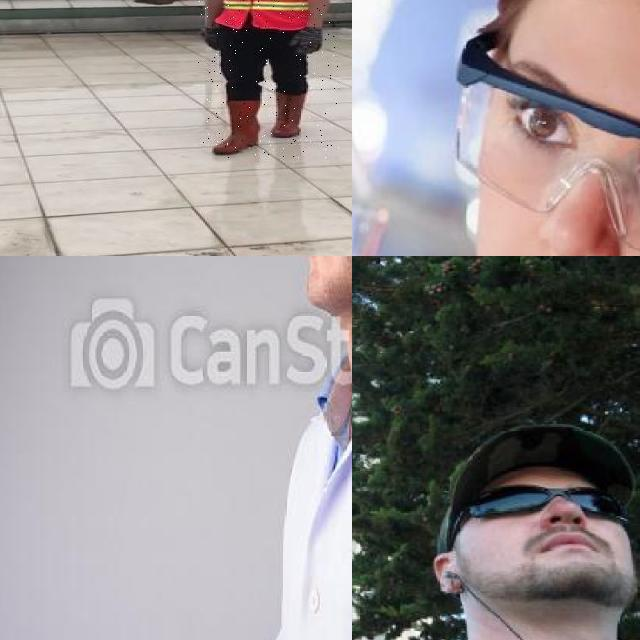boots: (212, 97, 262, 154), (272, 91, 308, 137)
face_nomask: (493, 82, 640, 256), (469, 484, 627, 568)
glasses: (451, 29, 640, 256), (453, 482, 640, 535)
head_nohelmet: (442, 426, 634, 497)
person: (352, 448, 640, 640), (243, 256, 352, 640), (196, 0, 341, 158)
vest: (212, 0, 310, 30)
